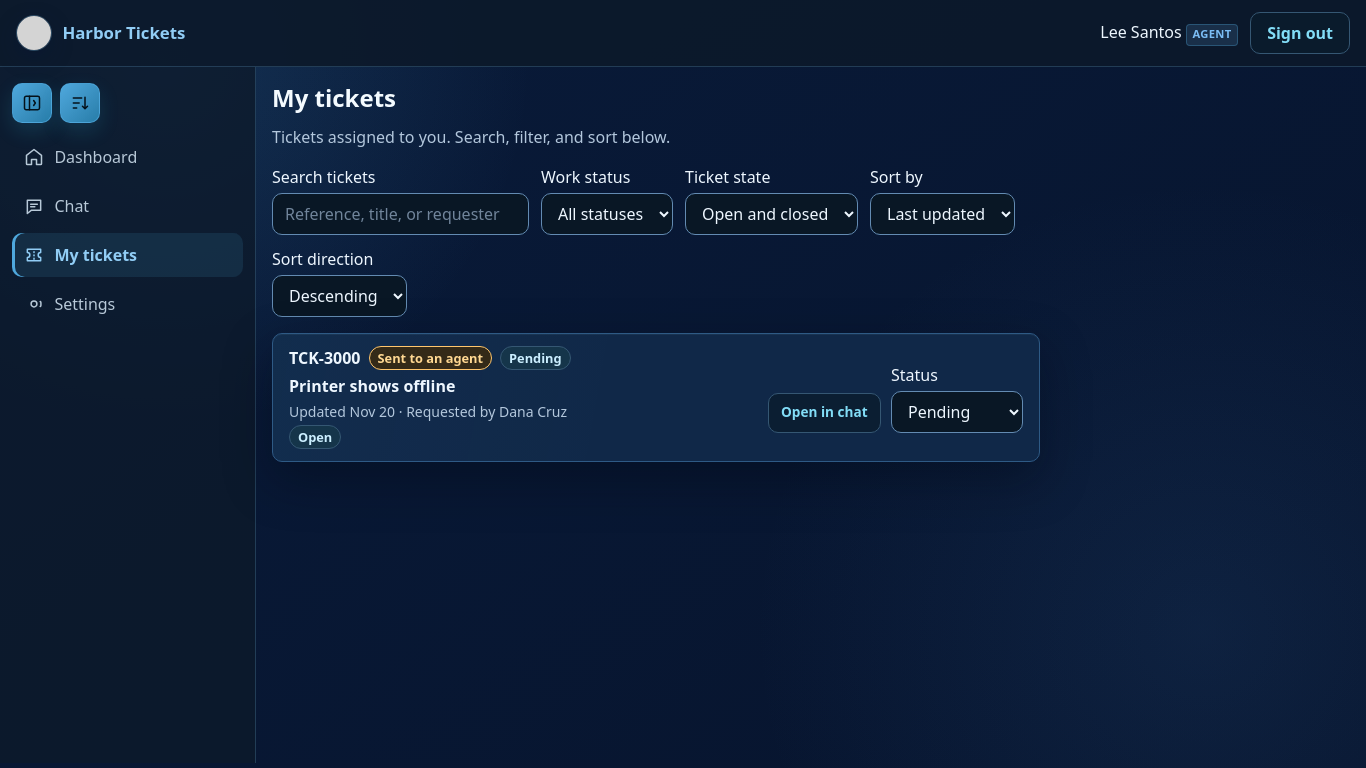
Test case: my tickets (employee ticket view) › shows an agent tickets assigned to them, not tickets they requested
Check: the list named "Assigned tickets" shows "TCK-3000", box [289, 346, 752, 449]
Check: the list named "Assigned tickets" does not show "TCK-3001", box [272, 333, 1040, 462]
Select "In progress" in the dropdown named "Status for TCK-3000" at [957, 412], box [891, 391, 1023, 433]
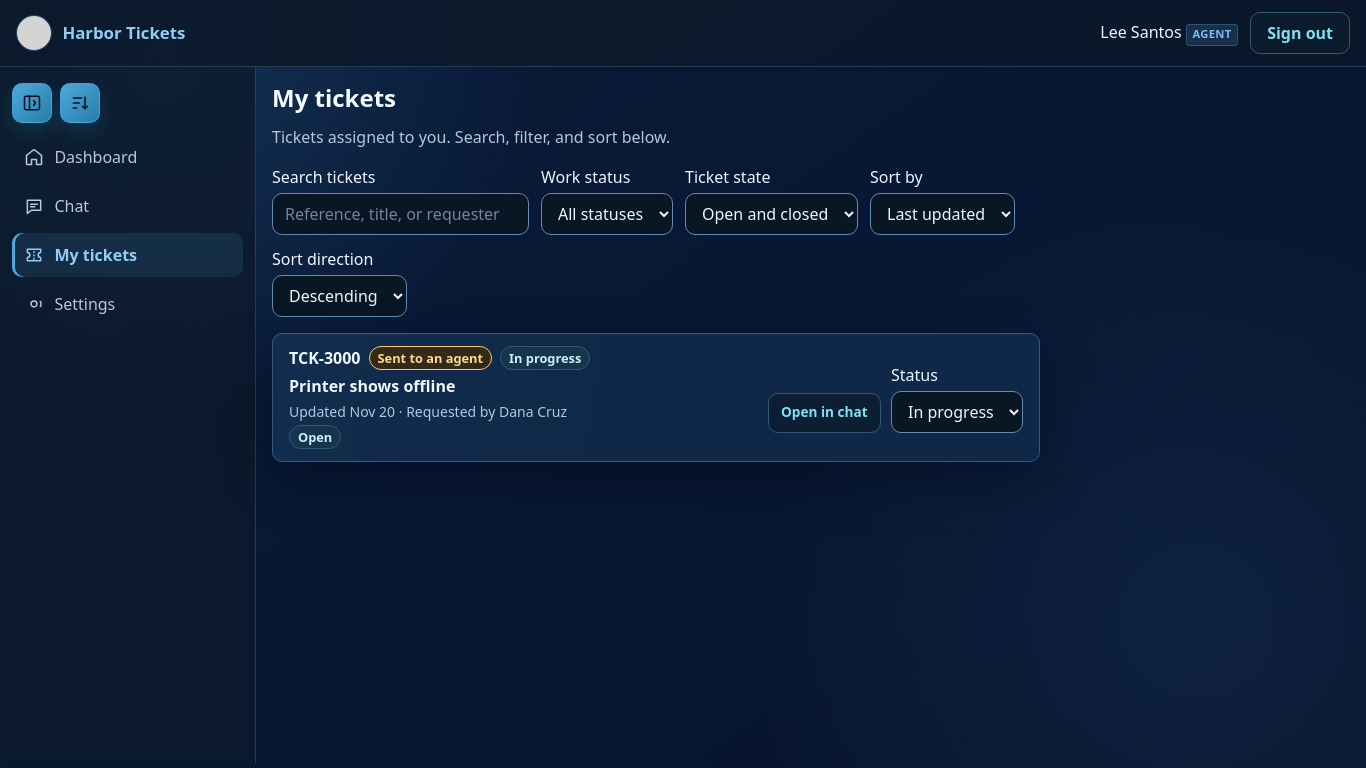
Type "no matching ticket" into the search field labelled "Search tickets" at [400, 214], box [272, 193, 529, 235]
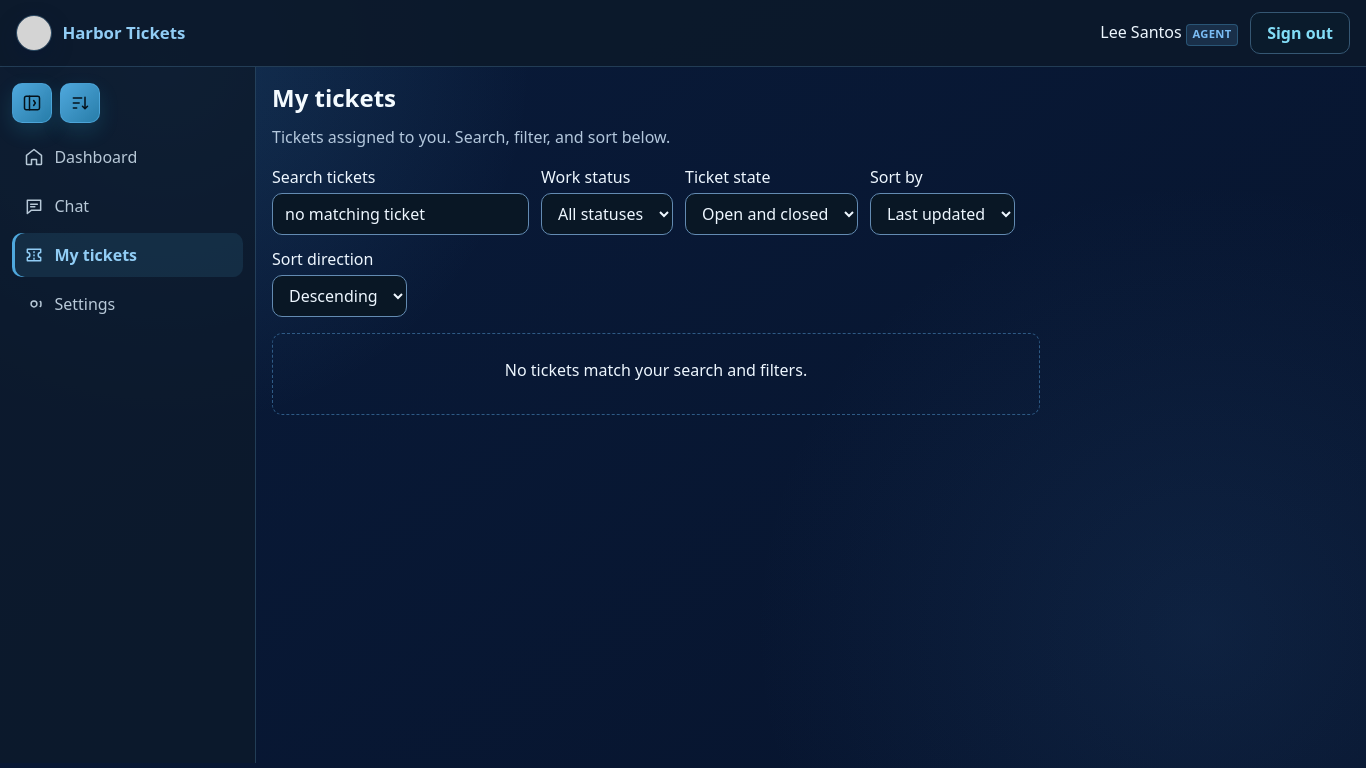
Check: the text "No tickets match your search and filters." is shown, box [505, 359, 807, 381]
